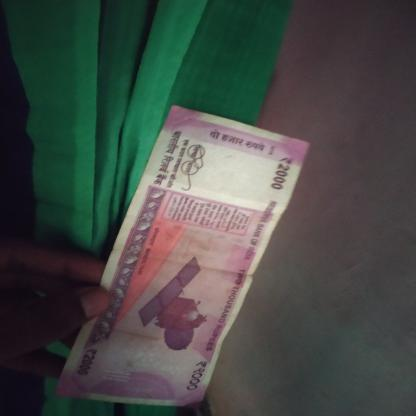New2000Back: (66, 108, 299, 400)
